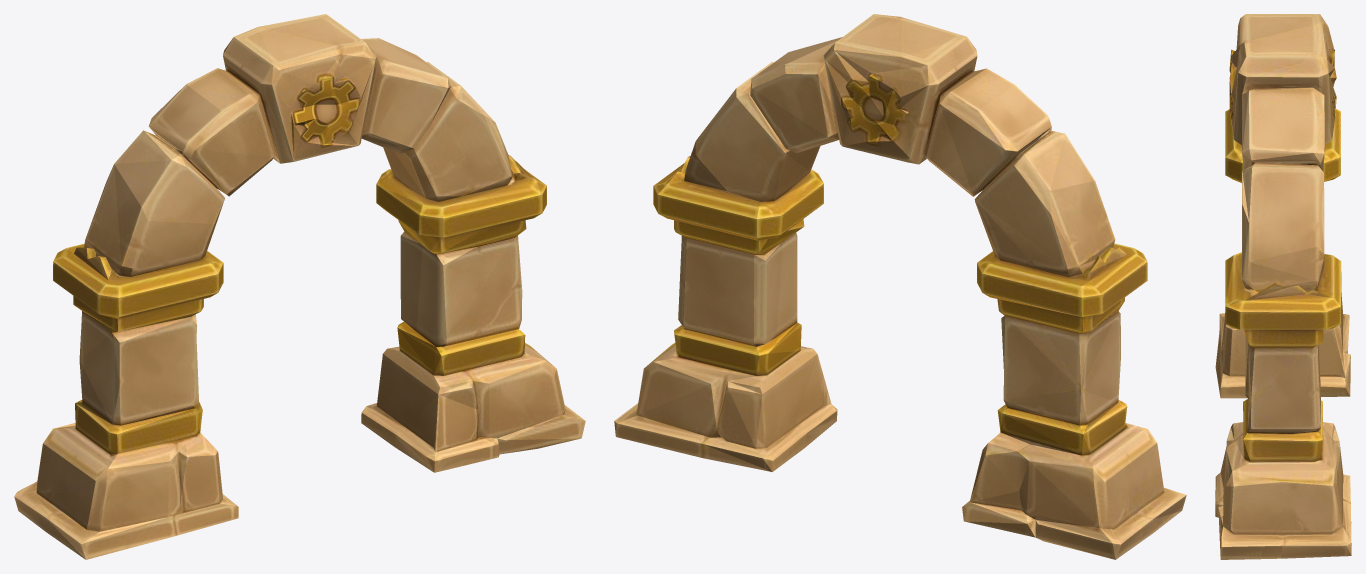
The model's file is porta-arco.glb.
The picture shows the model from 3 angles, left to right: view 1: azimuth 30°, elevation 25°; view 2: azimuth 150°, elevation 25°; view 3: azimuth 270°, elevation 25°; orthographic projection. The views are drawn at different scales.
Visible parts, largest first — view 1: Mesh_0; view 2: Mesh_0; view 3: Mesh_0.
Boxes of the visible parts, bbox=[...] form: Mesh_0: bbox=[14, 14, 585, 559]; Mesh_0: bbox=[614, 14, 1186, 559]; Mesh_0: bbox=[1215, 14, 1351, 559].
Size of the model in its own units: 1.9 by 1.57 by 0.4705.
1 material, 1 textured.
